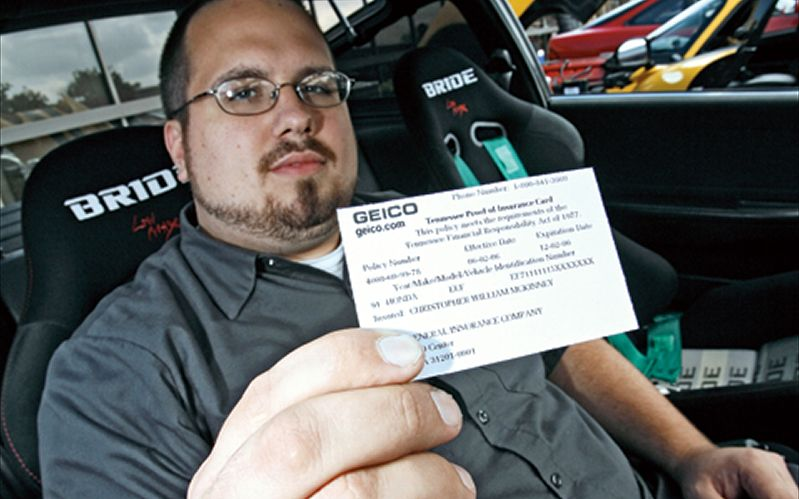geico: (350, 200, 422, 225)
